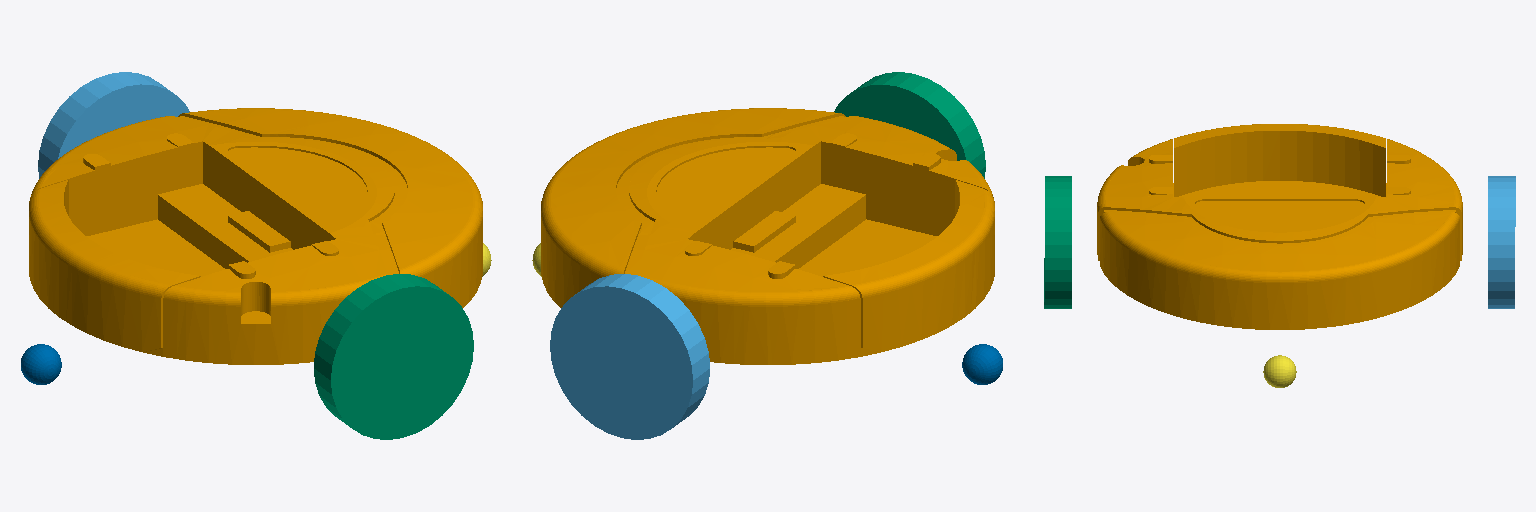
URDF robot description (example4):
<?xml version="1.0" ?>

<robot name="example4">
     <link name="base_link">
        <visual>
            <origin xyz="0 0 0" rpy="0 0 0"/>
            <geometry>
                <!-- <cylinder length="0.1" radius="0.20"/> -->
                <mesh filename="model://create/meshes/create_body.dae" />    
                <!-- <mesh filename="package://robot_description/meshes/create/meshes/create_body.dae" /> -->
            </geometry>
        </visual>
        <collision>
            <origin xyz="0 0 0" rpy="0 0 0"/>
            <geometry>
                <cylinder length="0.1" radius="0.20"/>
            </geometry>
        </collision>
        <inertial>
            <mass value="10" />                                                                                                                                                      
            <inertia ixx="0.1083333" ixy = "0" ixz = "0"
                     iyy="0.1083333" iyz = "0"
                     izz="0.2" />
        </inertial>
    </link>

    <link name="left_wheel_link">
        <visual>
            <origin xyz="0 0 0" rpy="1.57 0 0"/>
            <geometry>
                <cylinder length="0.025" radius="0.06"/>
            </geometry>
        </visual>
        <collision>
            <origin xyz="0 0 0" rpy="1.57 0 0"/>
            <geometry>
                <cylinder length="0.025" radius="0.06"/>
            </geometry>
        </collision>
        <inertial>
            <mass value="2" />                                                                                                                                                      
            <inertia ixx="0.0036" ixy = "0" ixz = "0"
                     iyy="0.0036" iyz = "0"
                     izz="0.0019042" />
        </inertial>
    </link>

    <joint name="base_lefty" type="continuous">
        <origin xyz="0 0.2 -0.02" rpy="0 0 0" />
        <parent link="base_link" />
        <child link="left_wheel_link" />
        <axis xyz="0 1 0" />
    </joint>

    <link name="right_wheel_link">
        <visual>
            <origin xyz="0 0 0" rpy="1.57 0 0"/>
            <geometry>
                <cylinder length="0.025" radius="0.06"/>
            </geometry>
        </visual>
        <collision>
            <origin xyz="0 0 0" rpy="1.57 0 0"/>
            <geometry>
                <cylinder length="0.025" radius="0.06"/>
            </geometry>
        </collision>
        <inertial>
            <mass value="2" />    
            <inertia ixx="0.0036" ixy = "0" ixz = "0" 
                     iyy="0.0036" iyz = "0" 
                     izz="0.0019042" />
        </inertial>
    </link>

    <joint name="base_right" type="continuous">
        <origin xyz="0 -0.2 -0.02" rpy="0 0 0" />
        <parent link="base_link" />
        <child link="right_wheel_link" />
        <axis xyz="0 1 0" />
    </joint>

    <link name="front_caster_link">
        <visual>
            <origin xyz="0 0 0" rpy="1.57 0 0"/>
            <geometry>
                <sphere radius="0.015"/>
            </geometry>
        </visual>
        <collision>
            <origin xyz="0 0 0" rpy="1.57 0 0"/>
            <geometry>
                <sphere radius="0.015"/>
            </geometry>
        </collision>
        <inertial>
            <mass value="1" />    
            <inertia ixx="0.00015" ixy = "0" ixz = "0" 
                     iyy="0.00015" iyz = "0" 
                     izz="0.00015" />
        </inertial>
    </link>

    <joint name="front_right_joint" type="continuous">
        <origin xyz="0.18 0 -0.065" rpy="0 0 0" />
        <parent link="base_link" />
        <child link="front_caster_link" />
        <axis xyz="0 1 0" />
    </joint>

    <link name="back_caster_link">
        <visual>
            <origin xyz="0 0 0" rpy="1.57 0 0"/>
            <geometry>
                <sphere radius="0.015"/>
            </geometry>
        </visual>
        <collision>
            <origin xyz="0 0 0" rpy="1.57 0 0"/>
            <geometry>
                <sphere radius="0.015"/>
            </geometry>
        </collision>
        <inertial>
            <mass value="1" />        
            <inertia ixx="0.00015" ixy = "0" ixz = "0" 
                     iyy="0.00015" iyz = "0" 
                     izz="0.00015" />
        </inertial>
    </link>

    <joint name="back_right_joint" type="continuous">
        <origin xyz="-0.18 0 -0.065" rpy="0 0 0" />
        <parent link="base_link" />
        <child link="back_caster_link" />
        <axis xyz="0 1 0" />
    </joint>

    <link name="foot_print">
        <visual>
            <origin xyz="0 0 0" rpy="0 0 0"/>
            <geometry>
                <box size="0.01 0.01 0.01"/>
            </geometry>
        </visual>
    </link>
    <gazebo reference="foot_print">
        <turnGravityOff>false</turnGravityOff>
    </gazebo>
    <joint name="foot_print_joint" type="fixed">
        <origin xyz="0 0 0.08" rpy="0 0 0" />
        <parent link="foot_print" />
        <child link="base_link" />
    </joint>

</robot>

--- Facts derived from the render (not from the file) ---
Views: 3 orthographic renders of the robot side by side, from view 1: azimuth 30°, elevation 25°; view 2: azimuth 150°, elevation 25°; view 3: azimuth 270°, elevation 25°.
Model example4 with 6 links and 5 joints (4 continuous, 1 fixed), rooted at foot_print, posed every joint at zero.
Links seen in each view (by area): view 1: base_link, right_wheel_link, left_wheel_link, back_caster_link; view 2: base_link, left_wheel_link, right_wheel_link, back_caster_link; view 3: base_link, left_wheel_link, right_wheel_link, front_caster_link.
Link boxes in pixels (left/top/right/bottom): base_link: left=29, top=108, right=482, bottom=364; right_wheel_link: left=314, top=274, right=473, bottom=439; left_wheel_link: left=38, top=72, right=189, bottom=178; back_caster_link: left=21, top=344, right=61, bottom=384; base_link: left=541, top=108, right=994, bottom=364; left_wheel_link: left=550, top=274, right=709, bottom=439; right_wheel_link: left=834, top=72, right=985, bottom=178; back_caster_link: left=962, top=344, right=1002, bottom=384; base_link: left=1097, top=124, right=1462, bottom=329; left_wheel_link: left=1488, top=176, right=1515, bottom=308; right_wheel_link: left=1044, top=176, right=1071, bottom=308; front_caster_link: left=1263, top=355, right=1296, bottom=387.
Bounding box of the posed robot: 0.39 × 0.4251 × 0.125 m (x, y, z).
Meshes: 1 distinct files referenced, 1 mesh visuals loaded (1 Collada DAE).